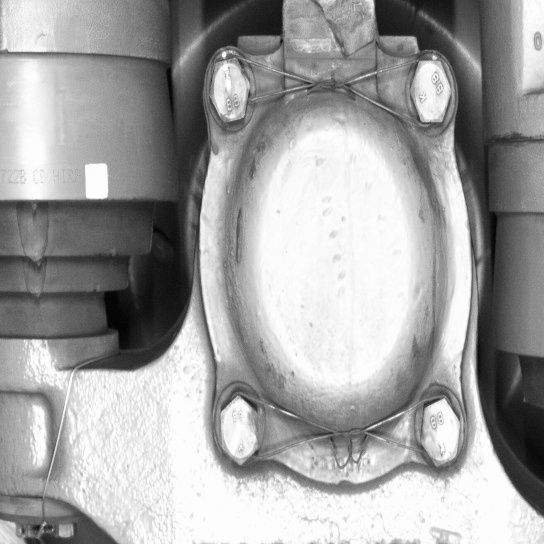IronWire: (202, 49, 455, 131), (211, 392, 464, 473)
Screw: (201, 50, 256, 131), (412, 388, 465, 472), (402, 50, 456, 130), (211, 392, 265, 472)
